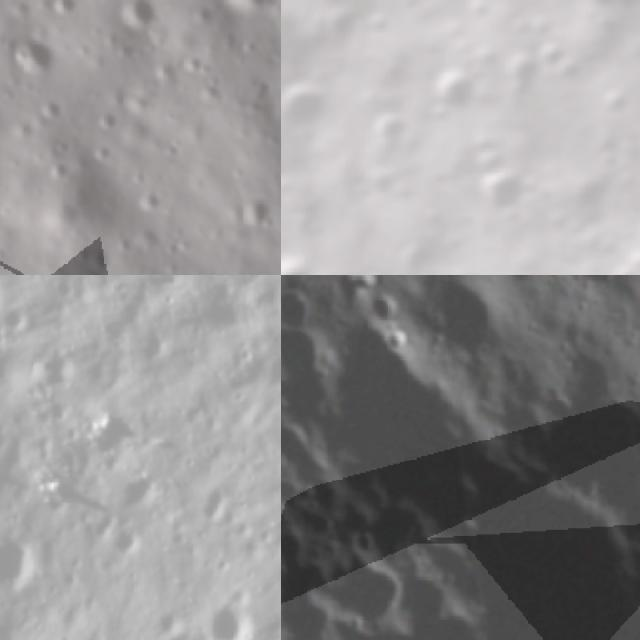crater: (428, 275, 517, 366), (464, 153, 541, 229), (281, 63, 351, 144), (422, 54, 496, 125), (546, 158, 616, 230), (364, 96, 432, 160), (492, 40, 554, 106), (381, 228, 441, 275), (320, 0, 371, 52), (30, 340, 78, 394), (115, 469, 167, 515), (8, 28, 51, 83), (205, 593, 254, 640), (543, 275, 636, 299), (0, 529, 38, 584), (590, 137, 629, 179), (114, 0, 167, 30), (281, 240, 326, 275), (379, 322, 422, 358), (198, 479, 230, 526), (364, 290, 405, 326), (236, 196, 276, 232), (300, 210, 336, 247), (112, 524, 147, 561), (346, 255, 407, 275), (350, 524, 383, 559), (575, 0, 627, 21), (603, 0, 640, 27), (259, 347, 281, 392), (47, 0, 73, 16)
